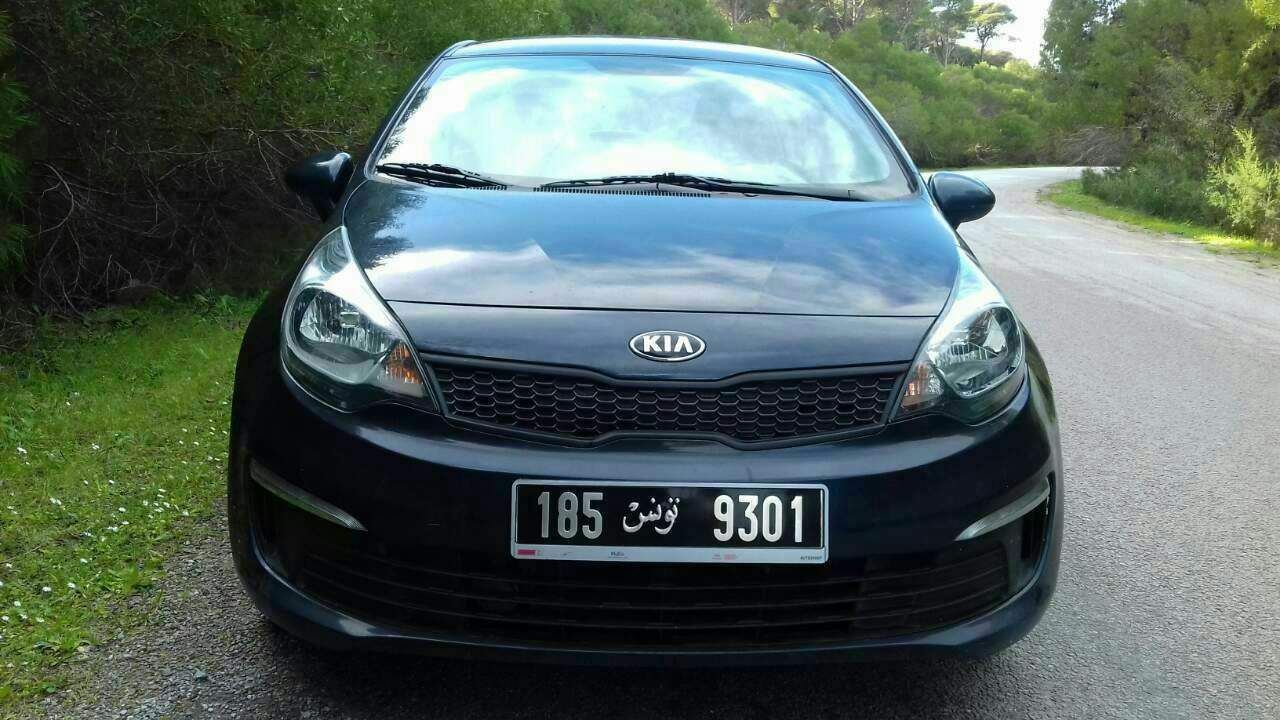LP: (512, 479, 826, 556)
